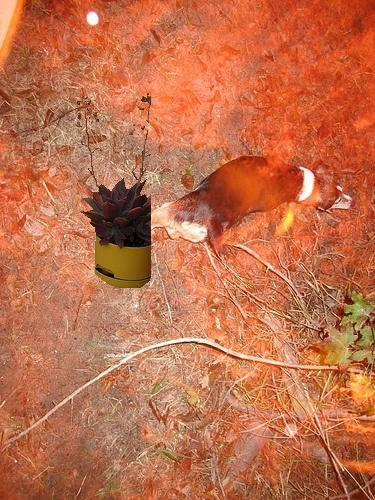tampered: (78, 94, 151, 288)
